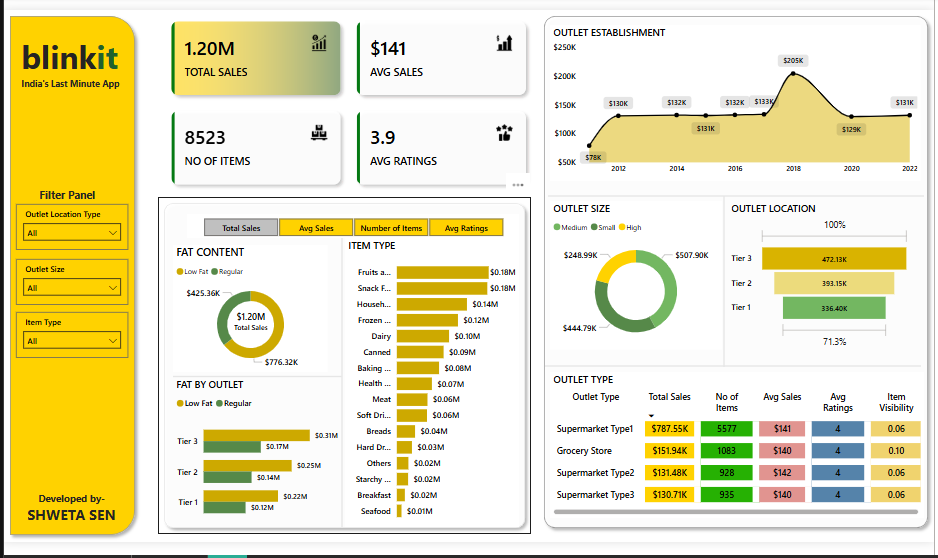

Layout of this report page (visuals, bound fields, positions):
{"tool":"powerbi","page":{"name":"Page 1","canvas":[1400,800],"ordinal":0},"visuals":[{"type":"shape","box":[0,0,206.2,799.4],"z":0},{"type":"textbox","box":[20.9,32.1,165.5,83.5],"z":1000},{"type":"textbox","box":[356.6,292.4,207.2,28.9],"z":2000},{"type":"textbox","box":[20.9,96.4,213.7,36.9],"z":3000},{"type":"cardVisual","fields":{"Data":["BlinkIT Grocery Data.Total Sales","BlinkIT Grocery Data.Avg Sales","BlinkIT Grocery Data.Number of Items","BlinkIT Grocery Data.Avg Ratings"]},"box":[234.5,0,568.7,281.1],"z":4000},{"type":"shape","box":[231.8,281.5,561.5,507.3],"z":5000},{"type":"donutChart","title":"FAT CONTENT","fields":{"Y":["BlinkIT Grocery Data.Avg Ratings"],"Category":["BlinkIT Grocery Data.Item Fat Content"]},"box":[254.4,353.8,233.3,191.2],"z":6000},{"type":"slicer","fields":{"Values":["Metrics.Metrics"]},"box":[275.5,307.1,499.8,36.1],"z":7000},{"type":"cardVisual","fields":{"Data":["BlinkIT Grocery Data.Avg Ratings"]},"box":[317.6,435.1,108.4,67.7],"z":8000},{"type":"clusteredBarChart","title":"FAT BY OUTLET","fields":{"Y":["BlinkIT Grocery Data.Avg Ratings"],"Category":["BlinkIT Grocery Data.Outlet Location Type"],"Series":["BlinkIT Grocery Data.Item Fat Content"]},"box":[254.4,552.5,254.4,230.3],"z":9000},{"type":"shape","box":[254.4,544.9,254.4,13.5],"z":10000},{"type":"shape","box":[498.3,343.2,21.1,435.1],"z":11000},{"type":"barChart","title":"ITEM TYPE","fields":{"Y":["BlinkIT Grocery Data.Avg Ratings"],"Category":["BlinkIT Grocery Data.Item Type"]},"box":[513.3,343.2,261.9,435.1],"z":12000},{"type":"shape","title":"OUTL","box":[803.9,0,596.1,788.8],"z":13000},{"type":"lineChart","title":"OUTLET ESTABLISHMENT","fields":{"Y":["BlinkIT Grocery Data.Total Sales"],"Category":["BlinkIT Grocery Data.Outlet Establishment Year"]},"box":[821.9,22.6,558.5,234.8],"z":14000},{"type":"shape","box":[818.9,268,566,24.1],"z":15000},{"type":"donutChart","title":"OUTLET SIZE","fields":{"Y":["BlinkIT Grocery Data.Avg Ratings"],"Category":["BlinkIT Grocery Data.Outlet Size"]},"box":[821.9,287.5,258.9,224.3],"z":16000},{"type":"shape","box":[1077.8,280,12,257.4],"z":17000},{"type":"funnel","title":"OUTLET LOCATION","fields":{"Category":["BlinkIT Grocery Data.Outlet Location Type"],"Y":["Sum(BlinkIT Grocery Data.Sales)"]},"box":[1089.9,287.5,278.5,227.3],"z":18000},{"type":"shape","box":[814.4,523.9,566,24.1],"z":19000},{"type":"pivotTable","title":"OUTLET TYPE","fields":{"Rows":["BlinkIT Grocery Data.Outlet Type"],"Values":["BlinkIT Grocery Data.Total Sales","BlinkIT Grocery Data.Number of Items","BlinkIT Grocery Data.Avg Sales","BlinkIT Grocery Data.Avg Ratings","Avg(BlinkIT Grocery Data.Item Visibility)"]},"box":[821.9,544.9,563,219.8],"z":20000},{"type":"slicer","fields":{"Values":["BlinkIT Grocery Data.Outlet Location Type"]},"box":[18.1,292,168.6,69.2],"z":21000},{"type":"slicer","fields":{"Values":["BlinkIT Grocery Data.Outlet Size"]},"box":[18.1,374.8,168.6,69.2],"z":22000},{"type":"slicer","fields":{"Values":["BlinkIT Grocery Data.Item Type"]},"box":[18.1,454.6,168.6,69.2],"z":23000},{"type":"textbox","box":[48.7,262.4,109,35.8],"z":24000},{"type":"textbox","box":[18.1,719.6,165.6,63.2],"z":25000}]}

Visuals, with their boxes on the page's 1400x800 design canvas (x1, y1, x2, y2). These are canvas units, not pixel positions in the 938x558 screenshot, which may show the page scaled, cropped or inside an application window:
shape: (0, 0, 206, 799)
textbox: (21, 32, 186, 116)
textbox: (357, 292, 564, 321)
textbox: (21, 96, 235, 133)
cardVisual - BlinkIT Grocery Data.Total Sales x BlinkIT Grocery Data.Avg Sales: (234, 0, 803, 281)
shape: (232, 282, 793, 789)
"FAT CONTENT" donutChart: (254, 354, 488, 545)
slicer - Metrics.Metrics: (276, 307, 775, 343)
cardVisual - BlinkIT Grocery Data.Avg Ratings: (318, 435, 426, 503)
"FAT BY OUTLET" clusteredBarChart: (254, 552, 509, 783)
shape: (254, 545, 509, 558)
shape: (498, 343, 519, 778)
"ITEM TYPE" barChart: (513, 343, 775, 778)
"OUTL" shape: (804, 0, 1400, 789)
"OUTLET ESTABLISHMENT" lineChart: (822, 23, 1380, 257)
shape: (819, 268, 1385, 292)
"OUTLET SIZE" donutChart: (822, 288, 1081, 512)
shape: (1078, 280, 1090, 537)
"OUTLET LOCATION" funnel: (1090, 288, 1368, 515)
shape: (814, 524, 1380, 548)
"OUTLET TYPE" pivotTable: (822, 545, 1385, 765)
slicer - BlinkIT Grocery Data.Outlet Location Type: (18, 292, 187, 361)
slicer - BlinkIT Grocery Data.Outlet Size: (18, 375, 187, 444)
slicer - BlinkIT Grocery Data.Item Type: (18, 455, 187, 524)
textbox: (49, 262, 158, 298)
textbox: (18, 720, 184, 783)
